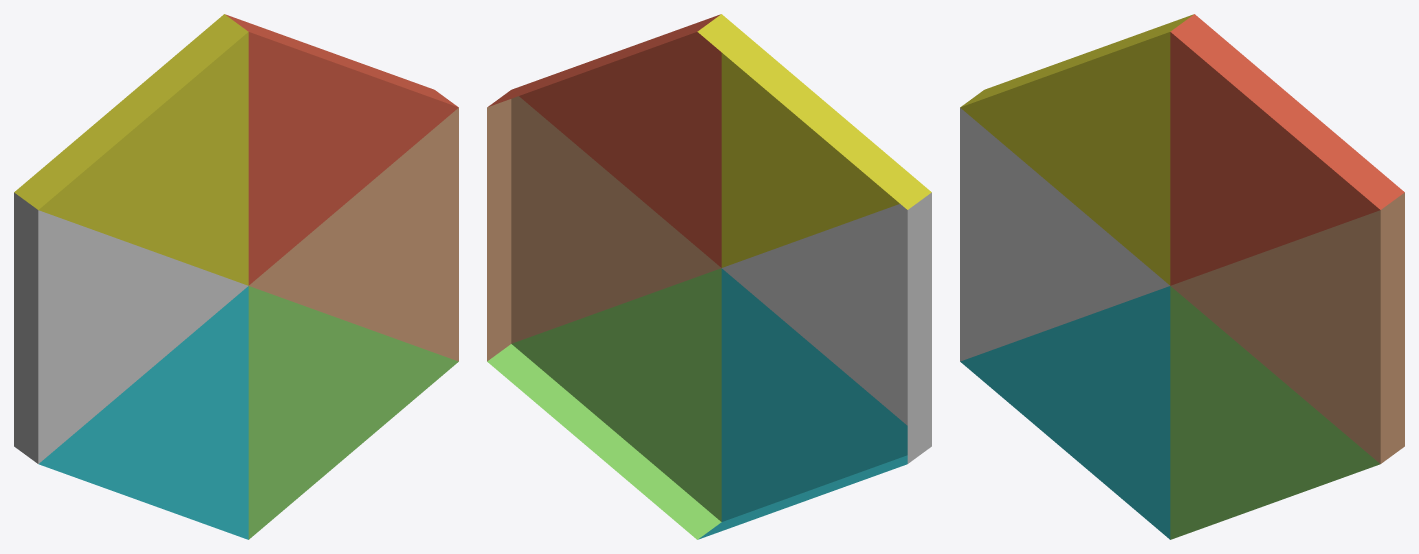
Rendered from tile_base.fbx.
3 renders of one model, left to right at view 1: azimuth 30°, elevation 25°; view 2: azimuth 150°, elevation 25°; view 3: azimuth 330°, elevation 25°, orthographic.
Parts seen in each view (by area): view 1: tile_base; view 2: tile_base; view 3: tile_base.
Part boxes in pixels (box(x1,y1,x2,y2)): tile_base: box(14, 14, 458, 539); tile_base: box(487, 14, 931, 539); tile_base: box(960, 14, 1404, 539).
Size of the model in its own units: 2001 by 2310 by 200.
